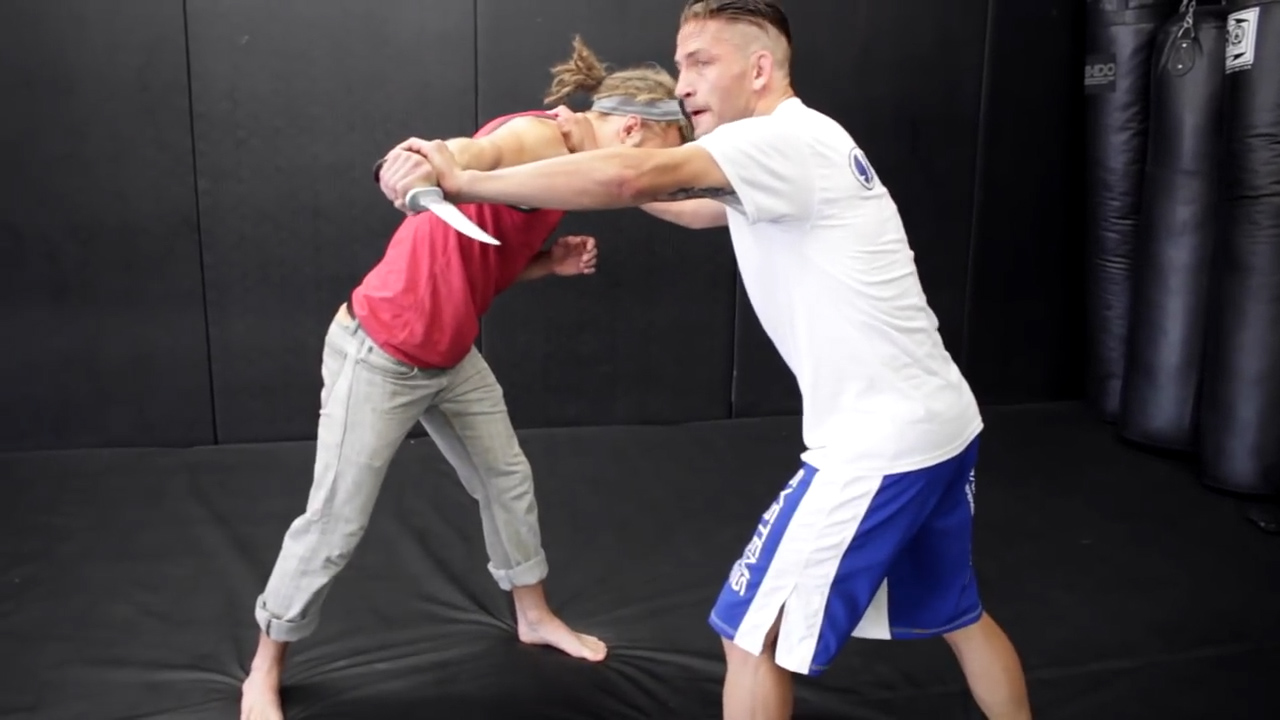knife: (363, 153, 511, 256)
